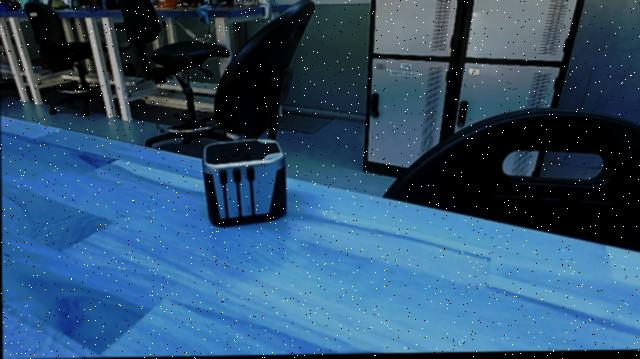adapter: (195, 134, 293, 232)
